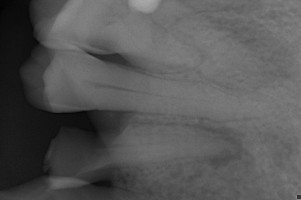Furcation Involvement: (195, 122, 244, 167)
